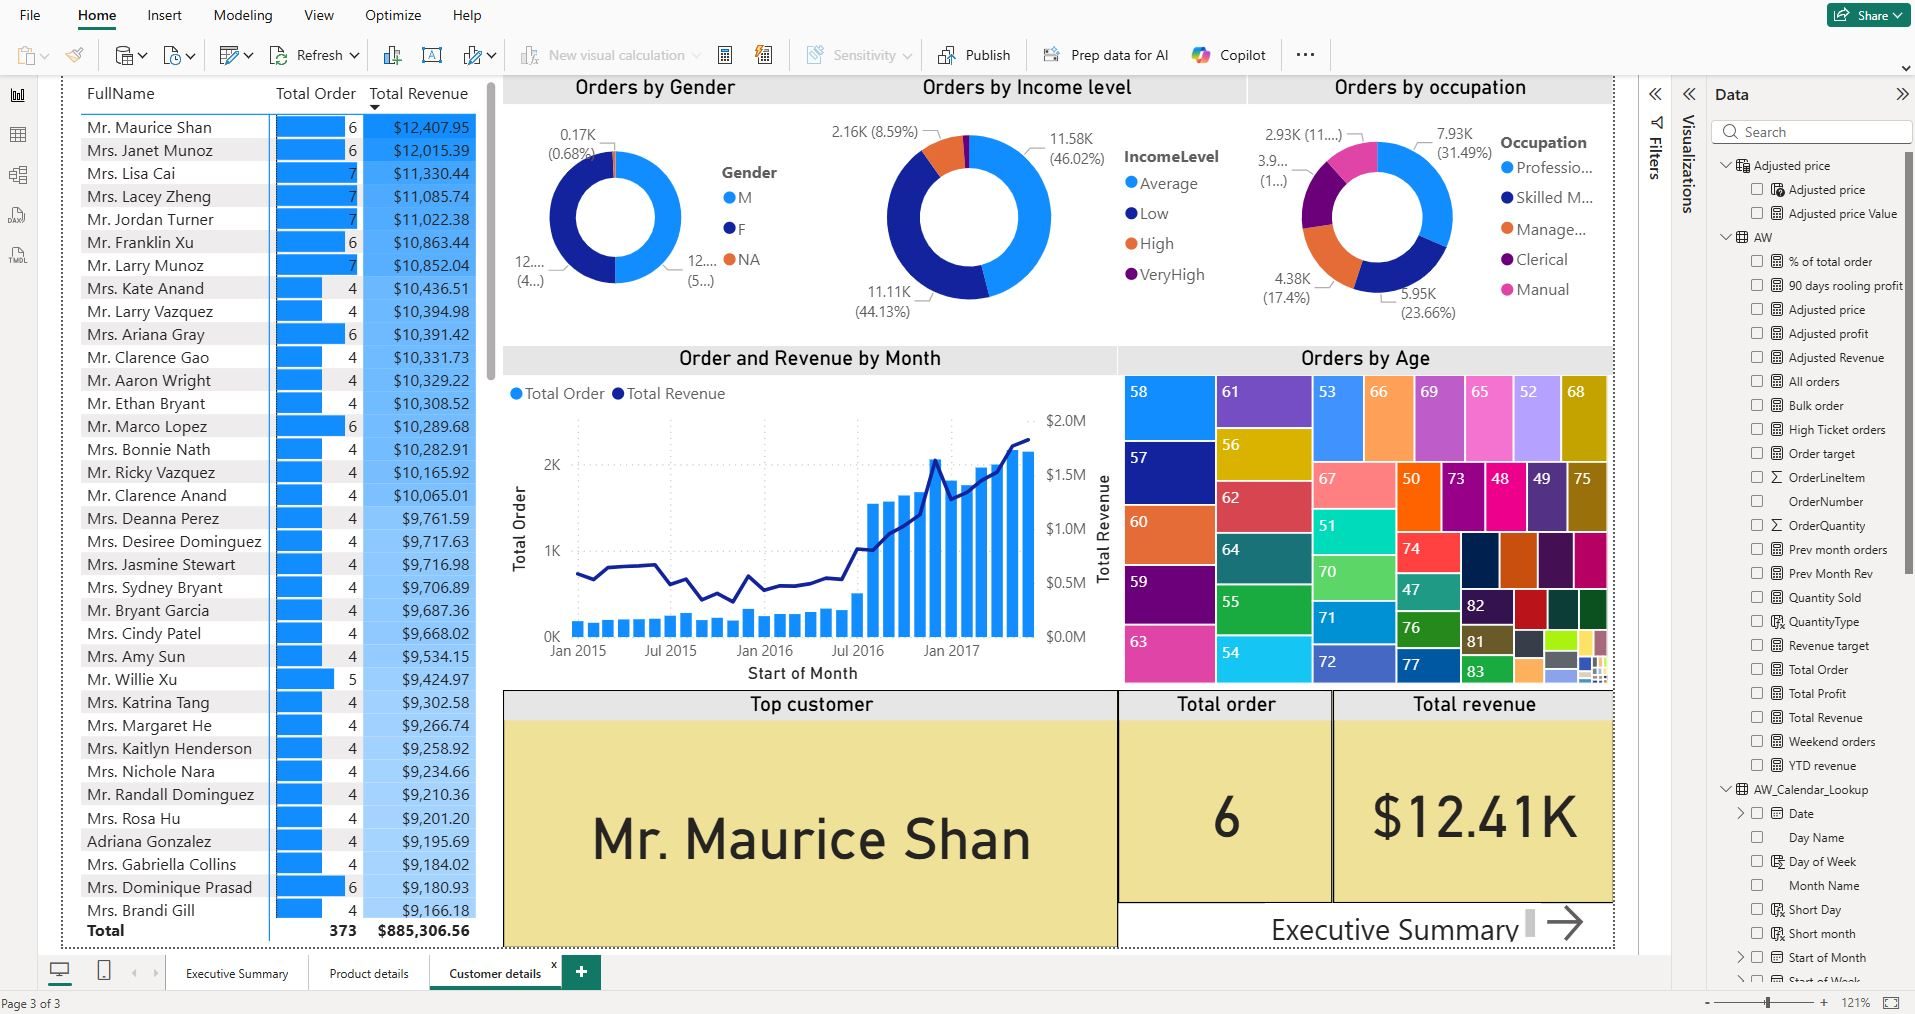

The page's visual inventory and layout, read from the dashboard file:
{"tool":"powerbi","page":{"name":"Customer details ","canvas":[1280,720],"ordinal":2},"visuals":[{"type":"pivotTable","fields":{"Rows":["AW_Customers_Lookup.FullName"],"Values":["AW.Total Order","AW.Total Revenue"]},"box":[10,0,353.5,719.8],"z":0},{"type":"donutChart","title":"Orders by Gender","fields":{"Y":["AW.Total Order"],"Category":["AW_Customers_Lookup.Gender"]},"box":[363.2,0,251.6,216],"z":1000},{"type":"donutChart","title":"Orders by Income level","fields":{"Y":["AW.Total Order"],"Category":["AW_Customers_Lookup.IncomeLevel"]},"box":[615.4,0,362,216],"z":2000},{"type":"donutChart","title":"Orders by occupation ","fields":{"Y":["AW.Total Order"],"Category":["AW_Customers_Lookup.Occupation"]},"box":[978.1,0,301.5,216],"z":3000},{"type":"lineClusteredColumnComboChart","title":"Order and Revenue by Month","fields":{"Category":["AW_Calendar_Lookup.Start of Month"],"Y":["AW.Total Order"],"Y2":["AW.Total Revenue"]},"box":[363.5,223.8,507.4,283.7],"z":4000},{"type":"treemap","title":"Orders by Age","fields":{"Group":["AW_Customers_Lookup.Current Age"],"Values":["AW.Total Order"]},"box":[870.9,223.8,409.1,283.7],"z":5000},{"type":"card","title":"Top customer","fields":{"Values":["Min(AW_Customers_Lookup.FullName)"]},"box":[363.6,507.7,507.7,212.7],"z":6000},{"type":"card","title":"Total revenue ","fields":{"Values":["AW.Total Revenue"]},"box":[1048.4,507.7,231.9,175.6],"z":7000},{"type":"card","title":"Total order","fields":{"Values":["AW.Total Order"]},"box":[871.4,507.7,177,175.6],"z":8000},{"type":"textbox","box":[992.1,683.4,227.8,37],"z":9000},{"type":"actionButton","box":[1219.9,680.6,60.4,39.8],"z":10000}]}

Visuals, with their boxes on the page's 1280x720 design canvas (x1, y1, x2, y2). These are canvas units, not pixel positions in the 1915x1014 screenshot, which may show the page scaled, cropped or inside an application window:
pivotTable - AW_Customers_Lookup.FullName x AW.Total Order: <region>10, 0, 364, 720</region>
"Orders by Gender" donutChart: <region>363, 0, 615, 216</region>
"Orders by Income level" donutChart: <region>615, 0, 977, 216</region>
"Orders by occupation " donutChart: <region>978, 0, 1280, 216</region>
"Order and Revenue by Month" lineClusteredColumnComboChart: <region>364, 224, 871, 508</region>
"Orders by Age" treemap: <region>871, 224, 1280, 508</region>
"Top customer" card: <region>364, 508, 871, 720</region>
"Total revenue " card: <region>1048, 508, 1280, 683</region>
"Total order" card: <region>871, 508, 1048, 683</region>
textbox: <region>992, 683, 1220, 720</region>
actionButton: <region>1220, 681, 1280, 720</region>
